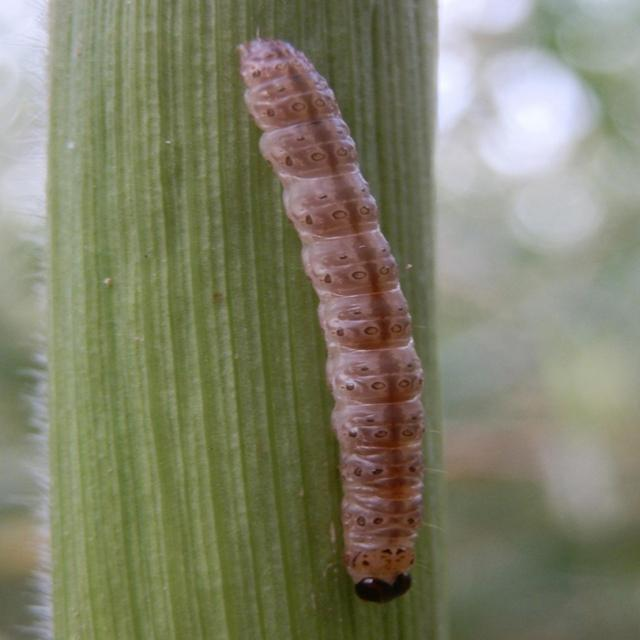cornborer-Larva-: (208, 28, 485, 616)
